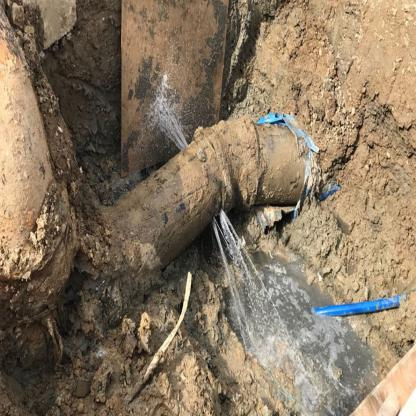burst: (204, 198, 251, 268), (158, 126, 198, 167)
